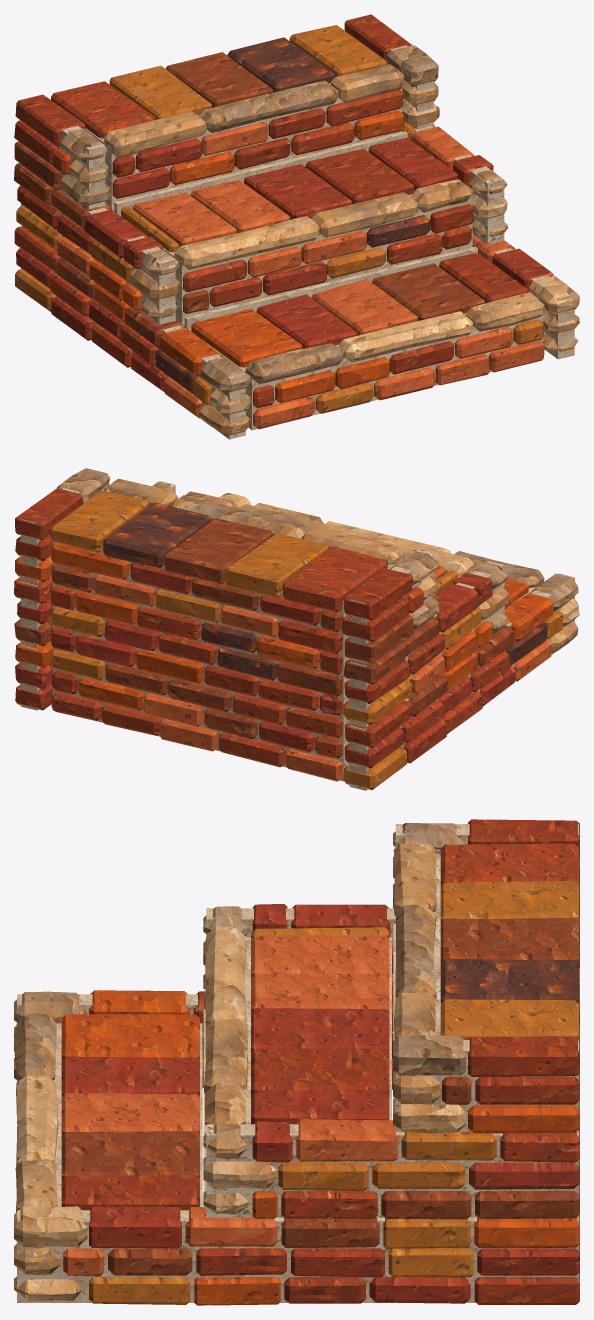
File: foundation_steps__clay_brick.glb
3 views of the same model, one above another, from view 1: azimuth 30°, elevation 25°; view 2: azimuth 150°, elevation 25°; view 3: azimuth 270°, elevation 25° (orthographic). The views are drawn at different scales.
Parts seen in each view (by area): view 1: model; view 2: model; view 3: model.
Part boxes in pixels (box(x1,y1,x2,y2)): model: box(14, 14, 579, 439); model: box(14, 468, 579, 790); model: box(14, 819, 579, 1305).
Bounding box in the file's own units: 1.97 × 0.9876 × 1.98.
Materials: 13 (13 with a texture image).
